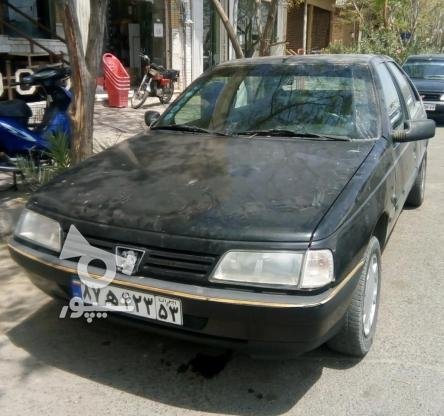car: (69, 276, 185, 325)
